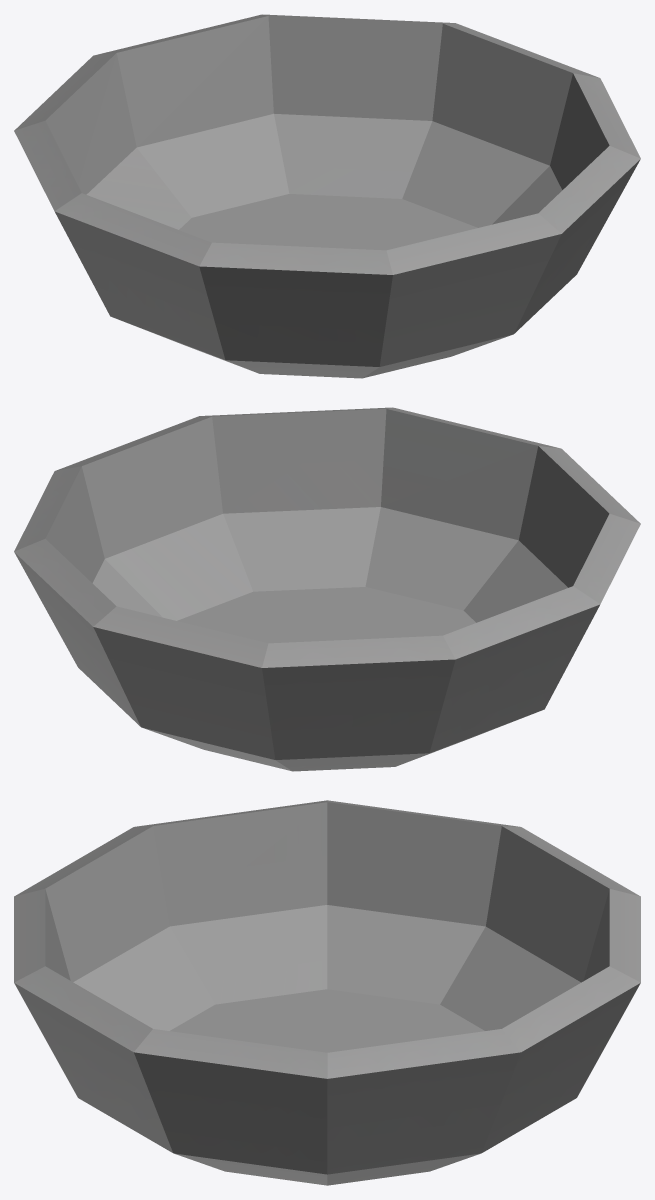
Rendered from bowlsmallempty.glb.
The picture shows the model from 3 angles, top to bottom: view 1: azimuth 30°, elevation 25°; view 2: azimuth 150°, elevation 25°; view 3: azimuth 270°, elevation 25°; orthographic projection. The views are drawn at different scales.
Visible parts, largest first — view 1: BowlSmallEmpty_mesh1; view 2: BowlSmallEmpty_mesh1; view 3: BowlSmallEmpty_mesh1.
Part boxes in pixels (<box>): BowlSmallEmpty_mesh1: <box>14,14,640,378</box>; BowlSmallEmpty_mesh1: <box>14,407,640,771</box>; BowlSmallEmpty_mesh1: <box>14,800,640,1185</box>.
Size of the model in its own units: 0.2749 by 0.0849 by 0.2614.
Materials: 1 (1 with a texture image).
